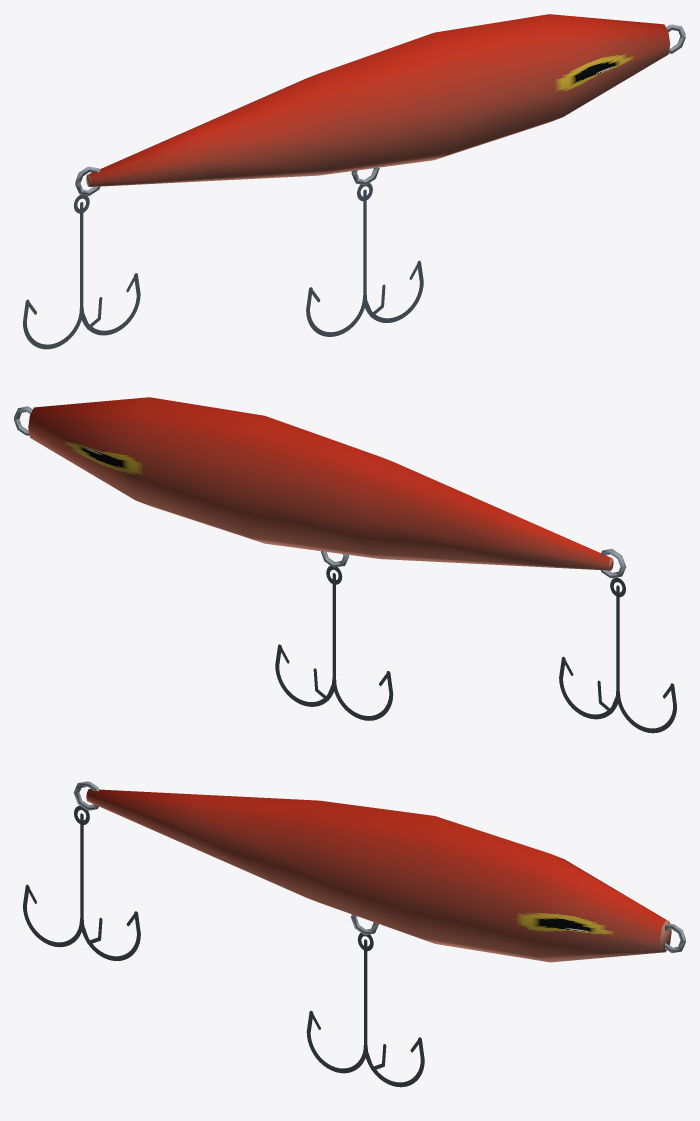
The model's file is pencil.glb.
3 views of the same model, one above another, from view 1: azimuth 30°, elevation 25°; view 2: azimuth 150°, elevation 25°; view 3: azimuth 330°, elevation 25° (orthographic).
Visible parts, largest first — view 1: pencil_body_MESH, Treble_hook_ALPHA.008, Treble_hook_ALPHA.009; view 2: pencil_body_MESH, Treble_hook_ALPHA.008, Treble_hook_ALPHA.009; view 3: pencil_body_MESH, Treble_hook_ALPHA.009, Treble_hook_ALPHA.008.
Part boxes in pixels (x1,y1,x2,y2): pencil_body_MESH: (86, 14, 670, 186); Treble_hook_ALPHA.008: (23, 194, 140, 349); Treble_hook_ALPHA.009: (306, 183, 423, 336); pencil_body_MESH: (28, 397, 613, 570); Treble_hook_ALPHA.008: (559, 577, 676, 733); Treble_hook_ALPHA.009: (275, 565, 393, 720); pencil_body_MESH: (86, 789, 671, 962); Treble_hook_ALPHA.009: (306, 933, 424, 1087); Treble_hook_ALPHA.008: (23, 805, 140, 960).
Bounding box in the file's own units: 0.0991 × 0.041 × 0.012.
Materials: 3 (2 with a texture image).
